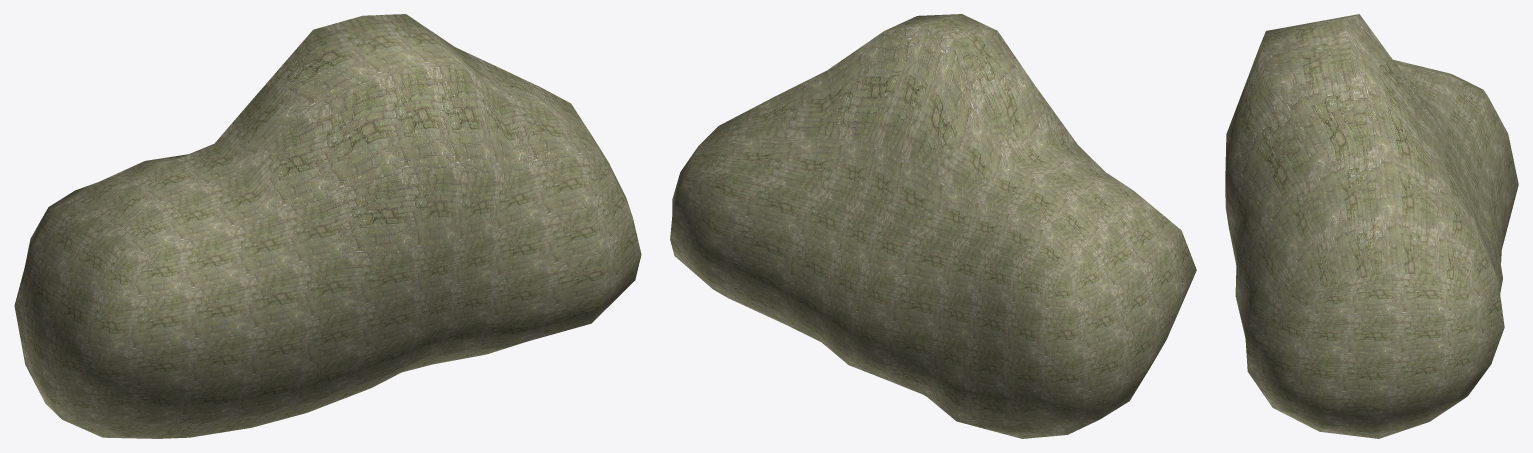
The model's file is SM_Chateaux_06_04.fbx.
3 views of the same model, side by side, from view 1: azimuth 30°, elevation 25°; view 2: azimuth 150°, elevation 25°; view 3: azimuth 270°, elevation 25° (orthographic). The views are drawn at different scales.
Parts seen in each view (by area): view 1: SM_Chateaux_06_04; view 2: SM_Chateaux_06_04; view 3: SM_Chateaux_06_04.
Boxes of the visible parts, <box> form: SM_Chateaux_06_04: <box>14,14,641,438</box>; SM_Chateaux_06_04: <box>670,14,1196,438</box>; SM_Chateaux_06_04: <box>1225,14,1518,438</box>.
Size of the model in its own units: 257 by 179 by 127.
